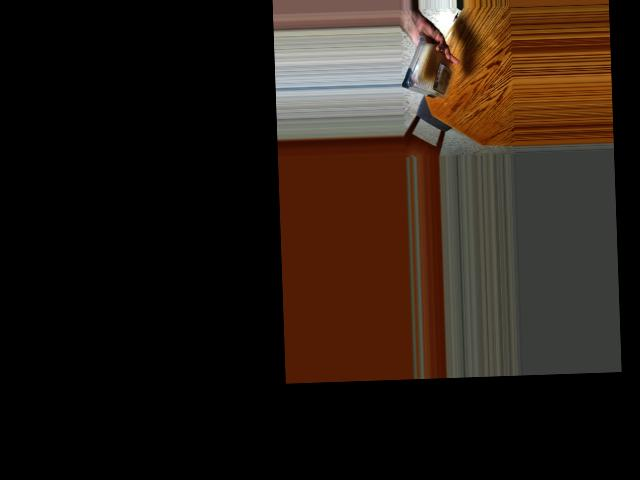cheese: (404, 42, 453, 99)
